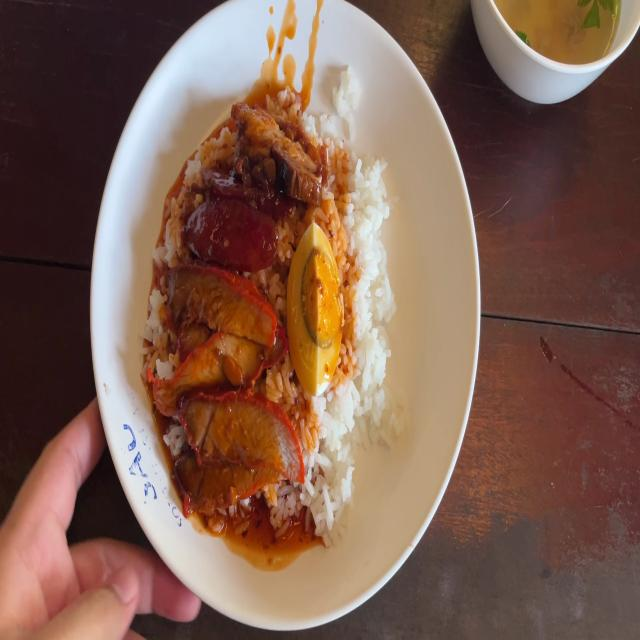01boiled_egg: (285, 230, 344, 398)
01chainese_sausage: (190, 164, 285, 264)
01crispy_pork: (239, 94, 320, 182)
01red_pork: (167, 265, 280, 489)
01red_pork_and_crispy_pork: (154, 105, 386, 522)
01rice: (347, 238, 395, 450), (288, 406, 355, 535), (332, 115, 394, 252)
